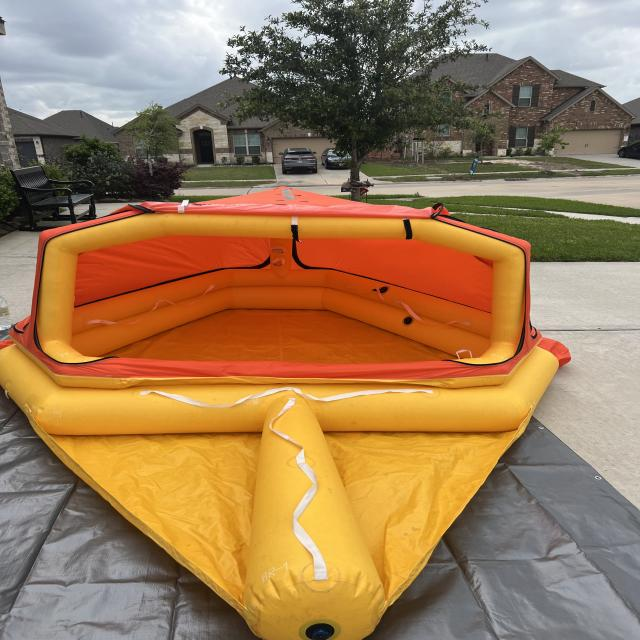Multi-person_life_raft: (0, 184, 573, 639)
